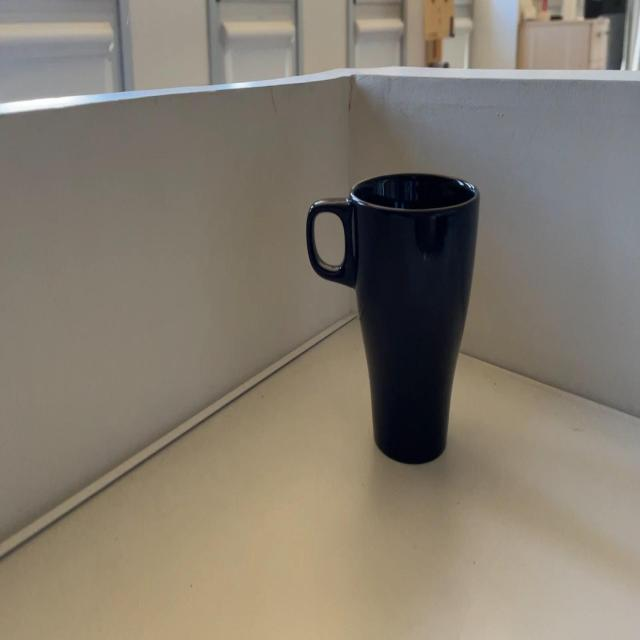cup: (306, 171, 480, 464)
